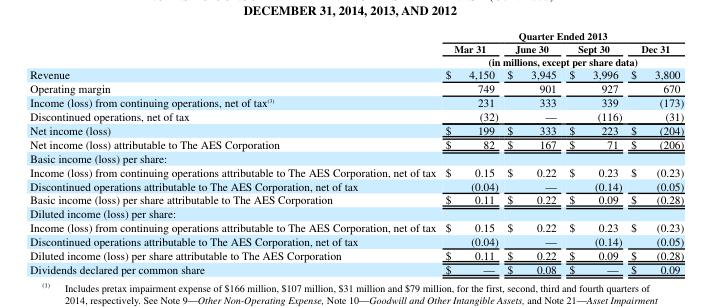table: (29, 28, 683, 276)
table column: (29, 28, 440, 276), (562, 28, 625, 276), (440, 28, 502, 276), (502, 28, 562, 276), (625, 28, 683, 276)
table column header: (29, 28, 683, 67)
table projected row header: (29, 150, 683, 164), (29, 205, 683, 219)
table row: (29, 261, 683, 276), (29, 28, 683, 42), (29, 80, 683, 94), (29, 94, 683, 108), (29, 108, 683, 122), (29, 122, 683, 136), (29, 136, 683, 150), (29, 150, 683, 164), (29, 164, 683, 178), (29, 178, 683, 192), (29, 205, 683, 219), (29, 219, 683, 233), (29, 233, 683, 247), (29, 247, 683, 261), (29, 54, 683, 67), (29, 67, 683, 80), (29, 192, 683, 205), (29, 42, 683, 54)
table spanning cell: (440, 28, 683, 42), (440, 54, 683, 67)
